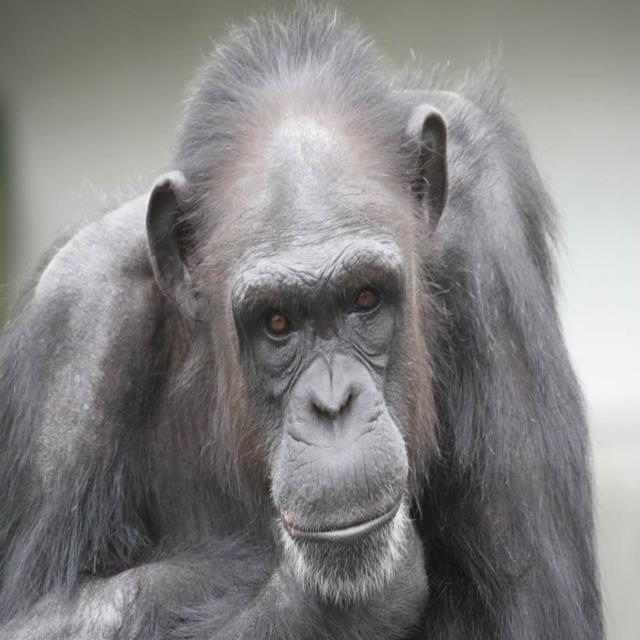Chimpanzee: (14, 21, 604, 640)
